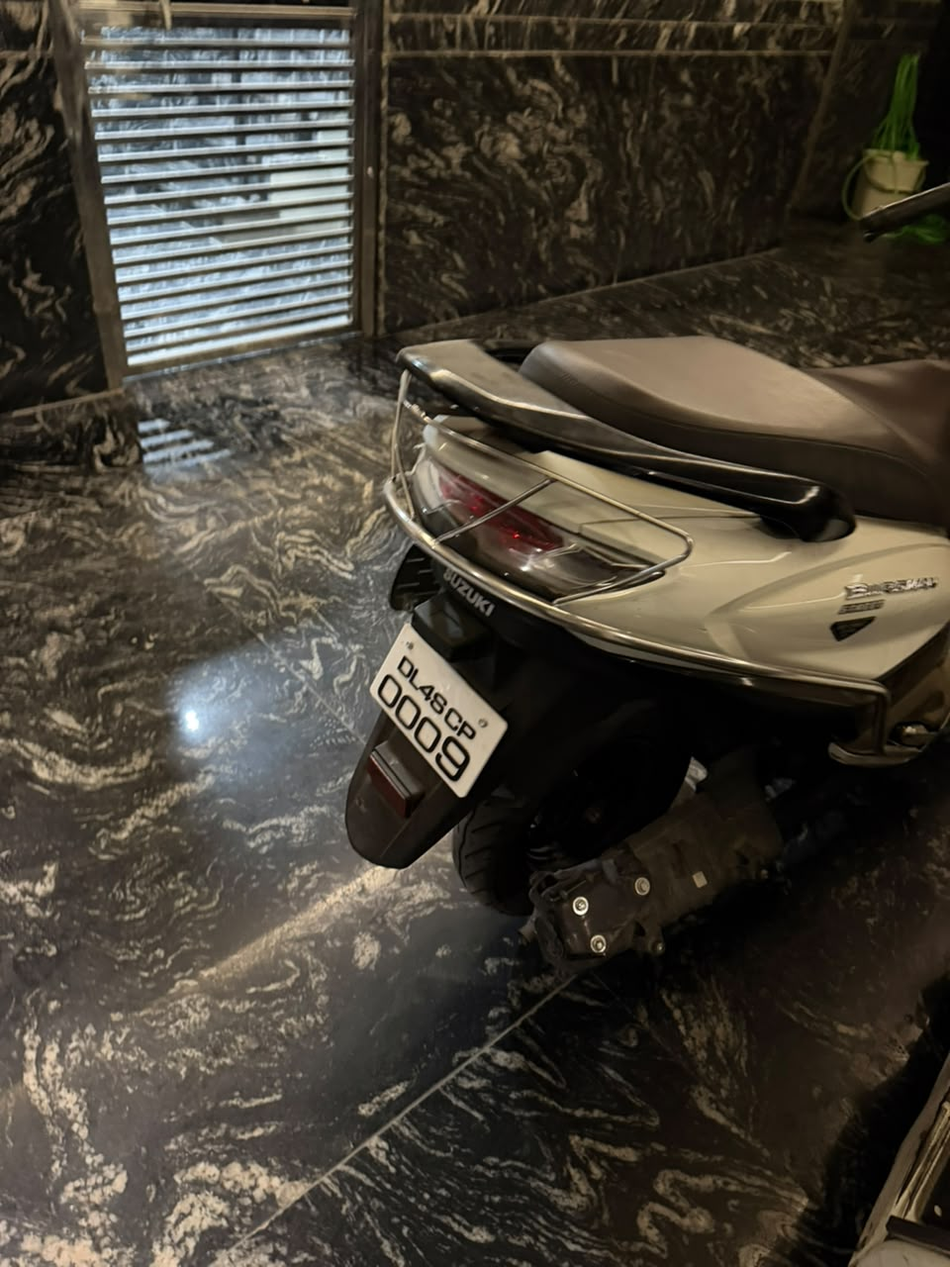vehicle: (366, 629, 508, 798)
